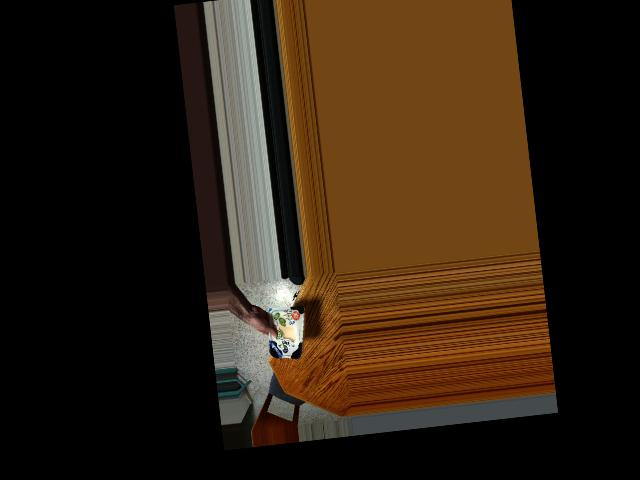cheese: (259, 304, 309, 361)
